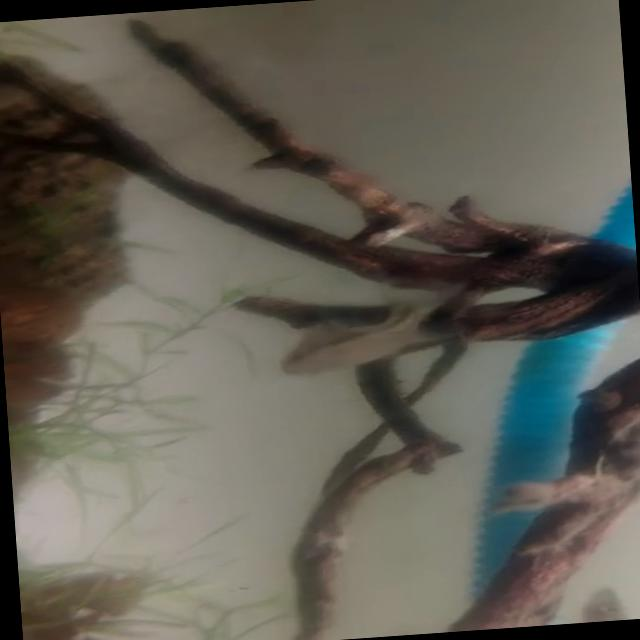Cakil Baligi: (274, 280, 474, 387)
